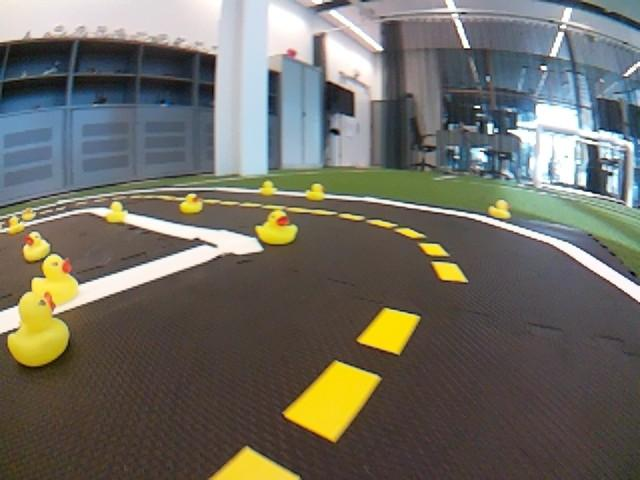Duckies: (5, 291, 69, 367), (33, 256, 77, 305), (254, 208, 297, 245), (23, 233, 50, 260), (104, 201, 128, 223), (179, 193, 203, 214), (488, 200, 511, 218), (306, 183, 326, 200), (6, 219, 25, 235), (260, 181, 276, 194), (22, 209, 36, 220)
